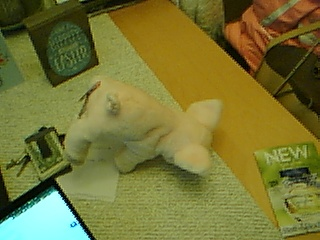piggy: (62, 74, 223, 182)
